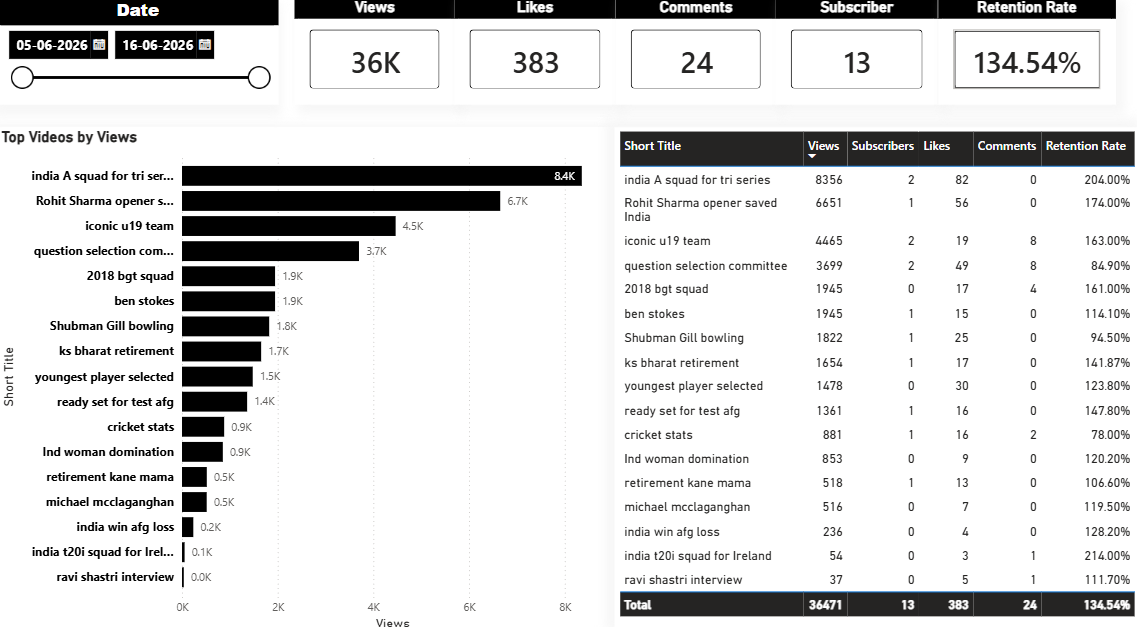

The dashboard page shown, as its layout file describes it:
{"tool":"powerbi","page":{"name":"Page 1","canvas":[1280,720],"ordinal":0},"visuals":[{"type":"cardVisual","title":"Views","fields":{"Data":["Sum(Post_Break_Analytics.Views)"]},"box":[332.1,7.1,179.6,119.7],"z":0},{"type":"cardVisual","title":"Likes","fields":{"Data":["Sum(Post_Break_Analytics.Likes)"]},"box":[511.3,7.1,180,120],"z":1000},{"type":"cardVisual","title":"Comments","fields":{"Data":["Sum(Post_Break_Analytics.Comments)"]},"box":[690.8,7.1,179.6,119.7],"z":2000},{"type":"cardVisual","title":" Subscriber","fields":{"Data":["Sum(Post_Break_Analytics.Subscribers Gained)"]},"box":[869.9,7.1,181,119.7],"z":3000},{"type":"cardVisual","title":"Retention Rate","fields":{"Data":["Avg(Post_Break_Analytics.Retention Rate)"]},"box":[1051.1,7,198.2,120],"z":4000},{"type":"clusteredBarChart","title":"Top Videos by Views","fields":{"Category":["Post_Break_Analytics.Short Title"],"Y":["Sum(Post_Break_Analytics.Views)"]},"box":[0,152.1,689.6,568.1],"z":5000},{"type":"slicer","title":"Date","fields":{"Values":["Post_Break_Analytics.Upload Date"]},"box":[0,7,314.1,120],"z":7000},{"type":"tableEx","fields":{"Values":["Post_Break_Analytics.Short Title","Sum(Post_Break_Analytics.Views)","Sum(Post_Break_Analytics.Subscribers Gained)","Sum(Post_Break_Analytics.Likes)","Sum(Post_Break_Analytics.Comments)","Avg(Post_Break_Analytics.Retention Rate)"]},"box":[689.6,152.1,590.4,568.1],"z":8000}]}

Visuals, with their boxes in screenshot pixels (x1, y1, x2, y2), scaled from the page's 1280x720 canvas onto the 1137x627 screenshot:
"Views" cardVisual: crop(295, 6, 455, 110)
"Likes" cardVisual: crop(454, 6, 614, 111)
"Comments" cardVisual: crop(614, 6, 773, 110)
" Subscriber" cardVisual: crop(773, 6, 933, 110)
"Retention Rate" cardVisual: crop(934, 6, 1110, 111)
"Top Videos by Views" clusteredBarChart: crop(0, 132, 613, 626)
"Date" slicer: crop(0, 6, 279, 111)
tableEx - Post_Break_Analytics.Short Title x Sum(Post_Break_Analytics.Views): crop(613, 132, 1136, 626)
